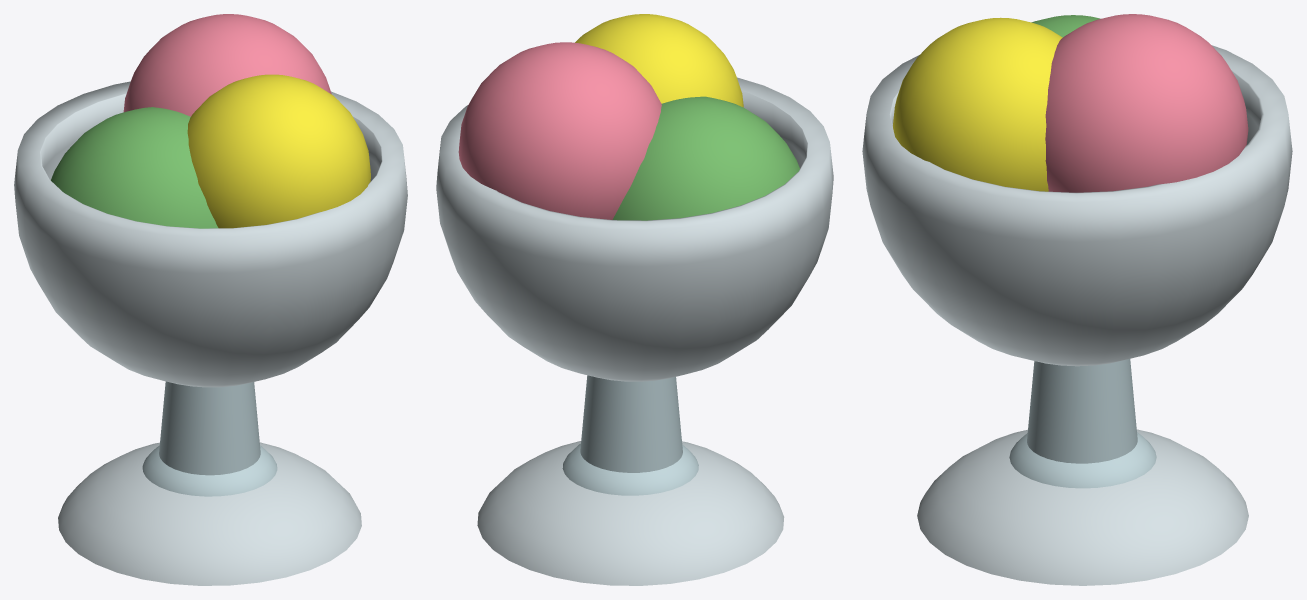
File: bowloficecream.fbx
The picture shows the model from 3 angles, left to right: view 1: azimuth 30°, elevation 25°; view 2: azimuth 150°, elevation 25°; view 3: azimuth 270°, elevation 25°; orthographic projection. The views are drawn at different scales.
Visible parts, largest first — view 1: Sphere.002, Sphere, Sphere.003, Sphere.004, Sphere.001, Cylinder.004, Sphere.008; view 2: Sphere.002, Sphere, Sphere.001, Sphere.004, Cylinder.004, Sphere.003, Sphere.008; view 3: Sphere.002, Sphere, Sphere.001, Sphere.003, Cylinder.004, Sphere.008, Sphere.004.
Boxes of the visible parts, x1,y1,x2,y2 form: Sphere.002: [14, 81, 407, 387]; Sphere: [58, 442, 361, 585]; Sphere.003: [187, 74, 370, 228]; Sphere.004: [51, 107, 218, 228]; Sphere.001: [123, 14, 331, 116]; Cylinder.004: [159, 381, 260, 475]; Sphere.008: [142, 445, 277, 496]; Sphere.002: [436, 77, 833, 381]; Sphere: [477, 441, 784, 585]; Sphere.001: [458, 42, 661, 219]; Sphere.004: [612, 96, 799, 220]; Cylinder.004: [580, 375, 682, 472]; Sphere.003: [575, 14, 743, 107]; Sphere.008: [562, 443, 698, 495]; Sphere.002: [862, 45, 1292, 366]; Sphere: [917, 429, 1248, 585]; Sphere.001: [1045, 14, 1248, 192]; Sphere.003: [893, 17, 1062, 191]; Cylinder.004: [1027, 359, 1137, 463]; Sphere.008: [1009, 432, 1156, 488]; Sphere.004: [1031, 15, 1100, 37].
Size of the model in its own units: 1598 by 2104 by 1598.
